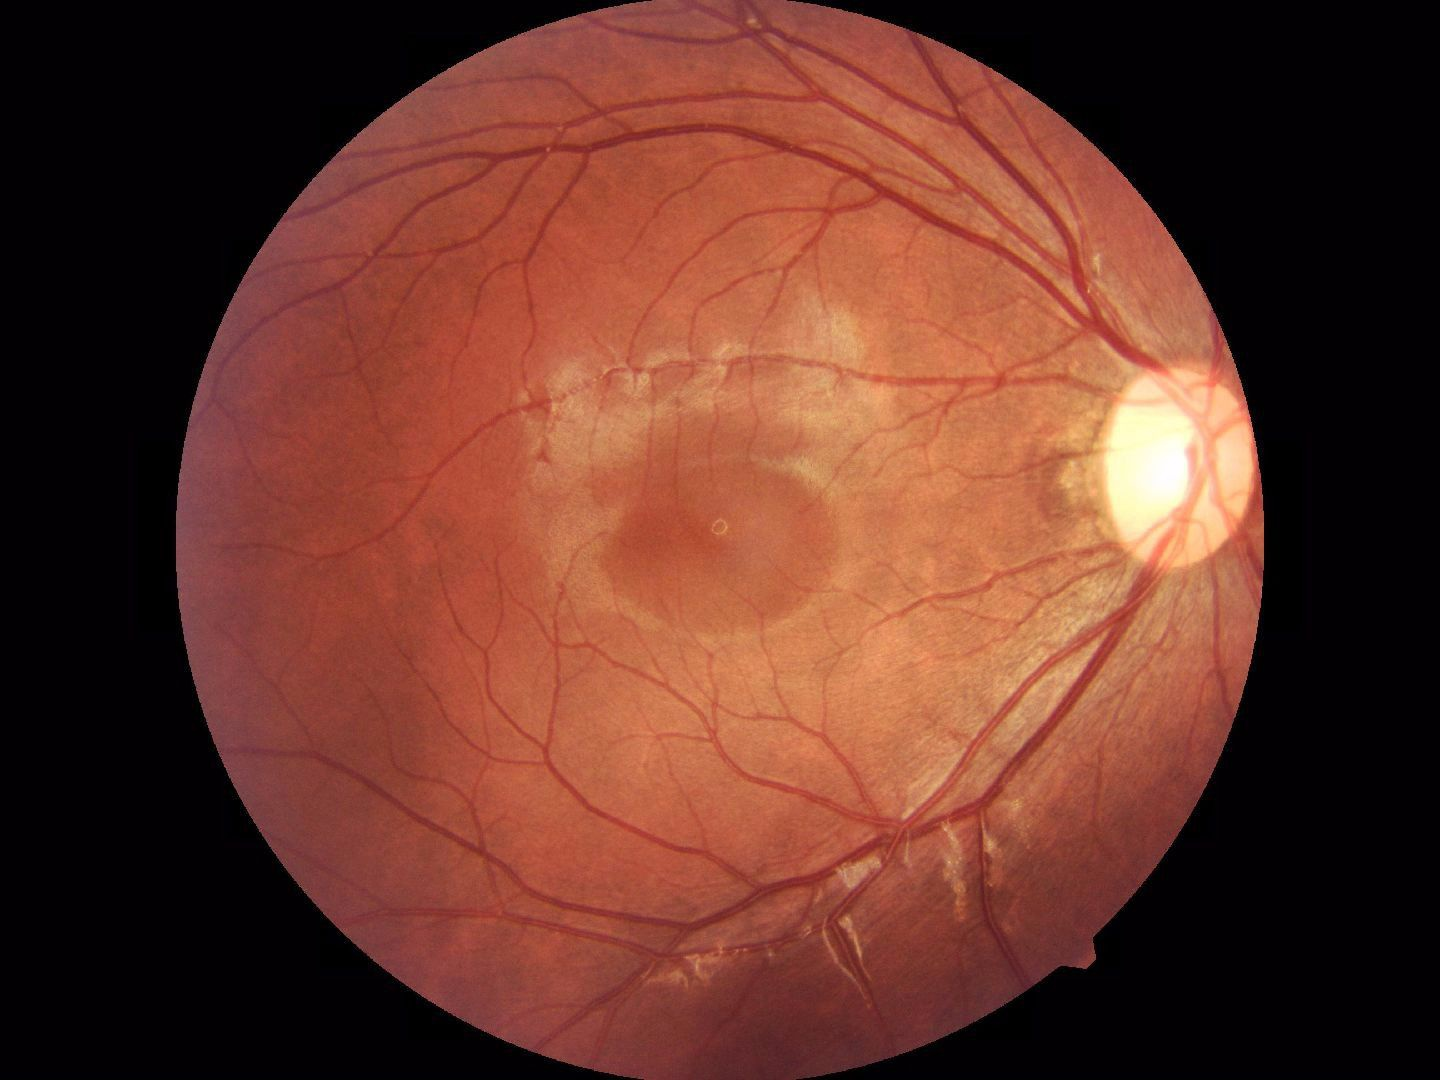Arterioles: (398, 633, 700, 876), (369, 113, 816, 275)
Hemorrhages: (544, 429, 848, 619)
Optic-Disc: (1086, 353, 1257, 598)
Venules: (922, 647, 1094, 819)
